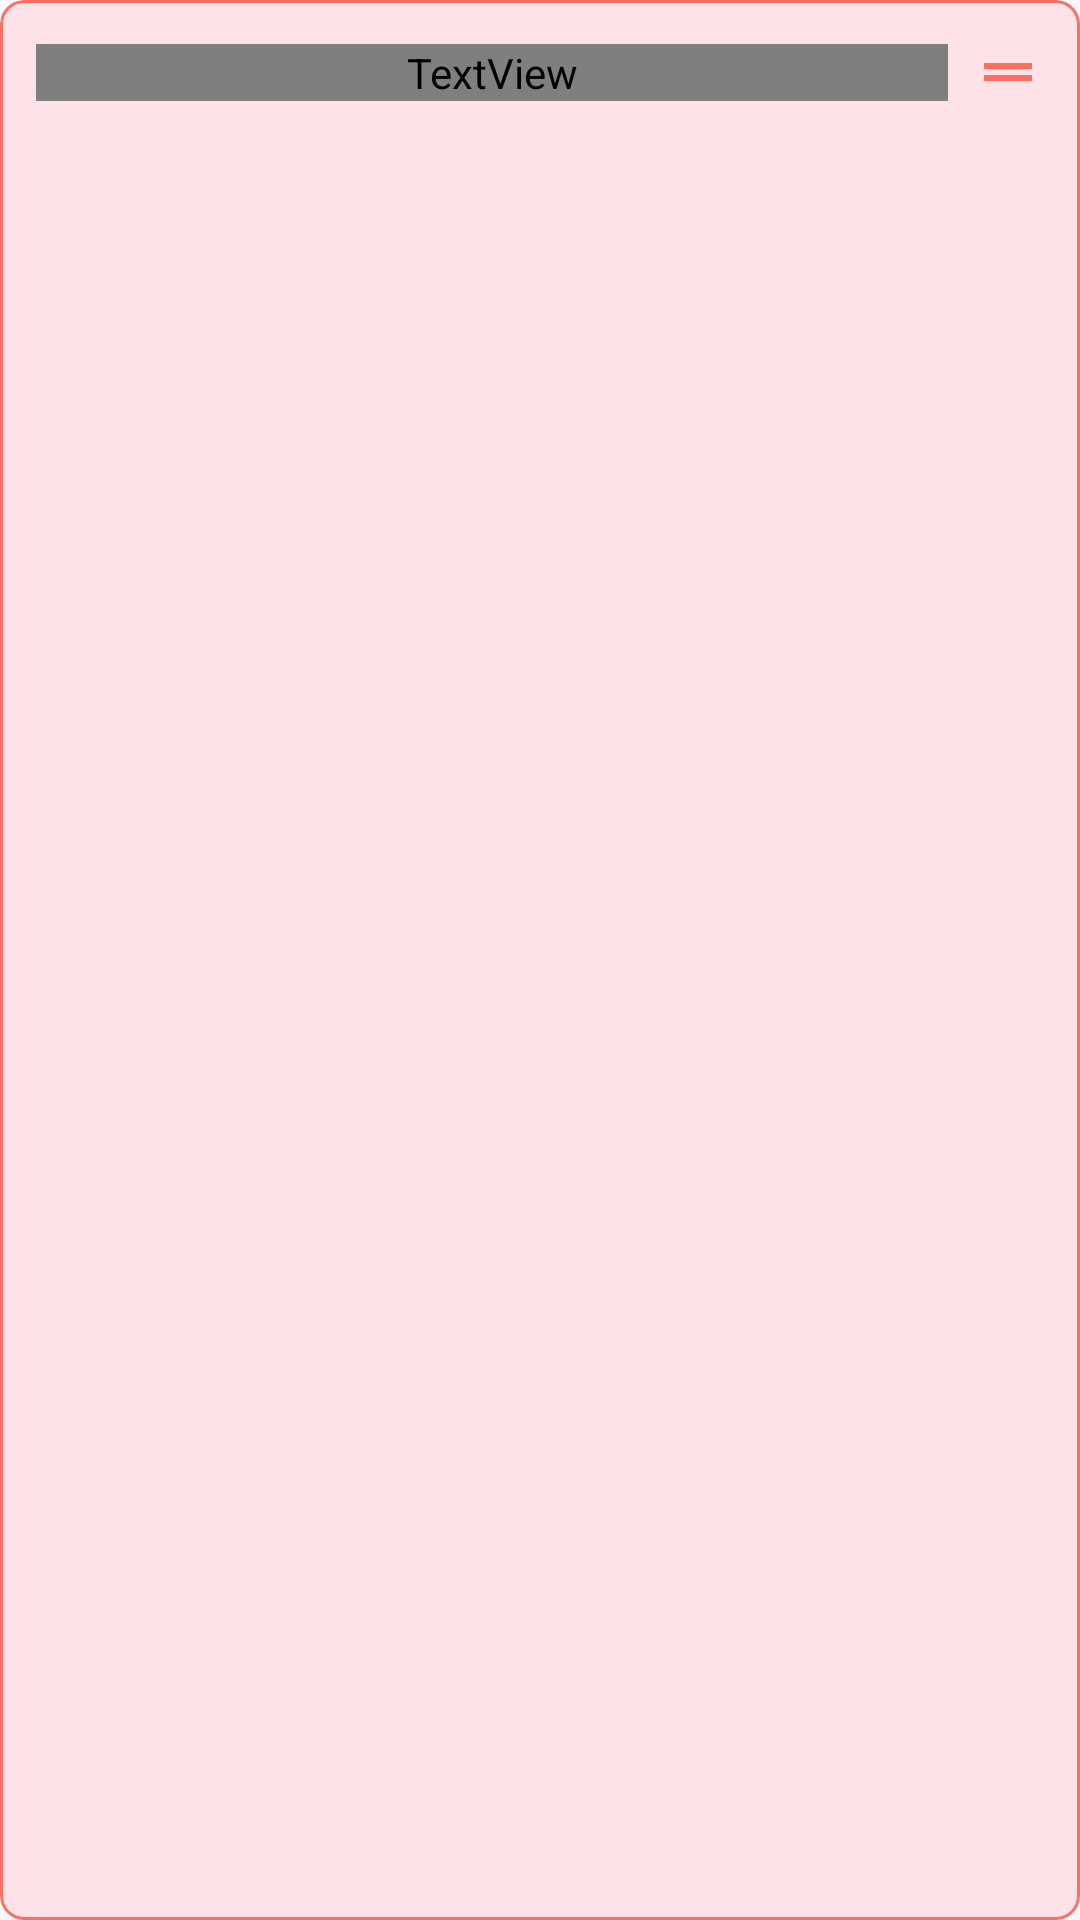

Named icons in this screenshot (1080px x 1920px) and their centers, (x=x, y=y):
drag: (x=1008, y=72)
